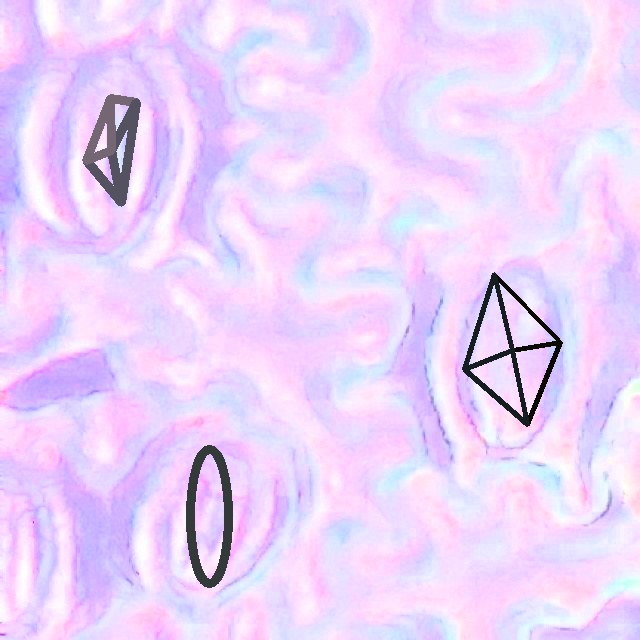close: (462, 273, 562, 426), (185, 444, 233, 588)
open: (83, 94, 139, 206)
